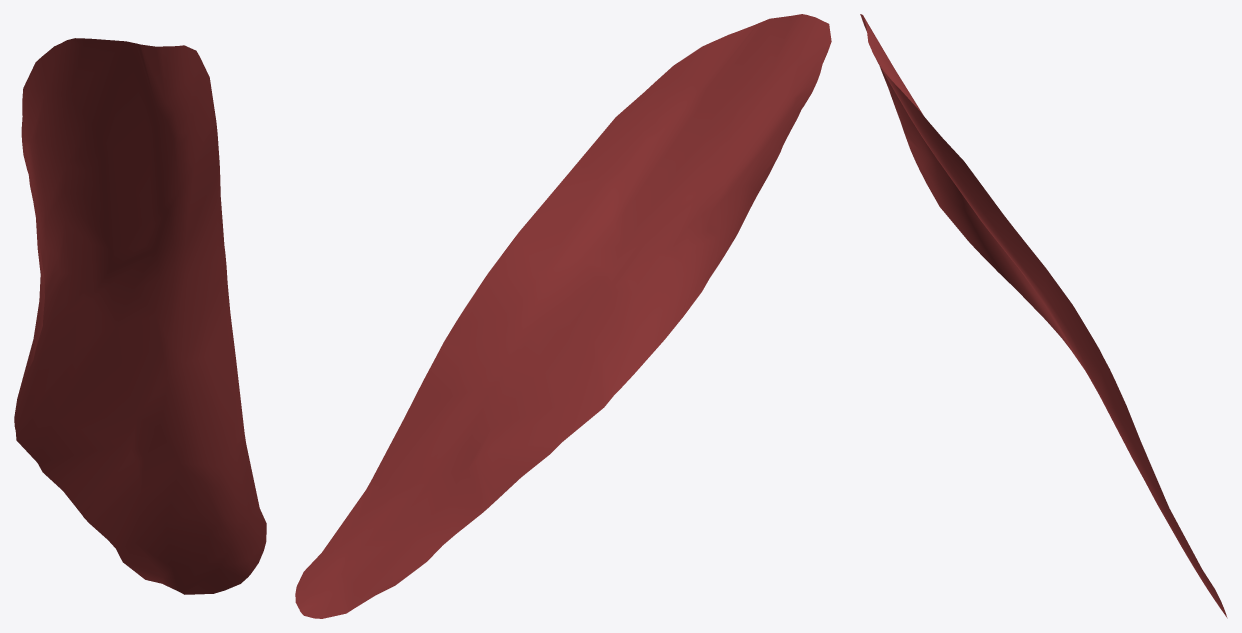
The model's file is teres-minor-muscle-or.glb.
The picture shows the model from 3 angles, left to right: view 1: azimuth 30°, elevation 25°; view 2: azimuth 150°, elevation 25°; view 3: azimuth 270°, elevation 25°; orthographic projection. The views are drawn at different scales.
Visible parts, largest first — view 1: Teres minor muscle.or; view 2: Teres minor muscle.or; view 3: Teres minor muscle.or.
Part boxes in pixels (bbox=[...]): Teres minor muscle.or: bbox=[14, 38, 266, 594]; Teres minor muscle.or: bbox=[295, 14, 831, 618]; Teres minor muscle.or: bbox=[860, 14, 1227, 618].
Size of the model in its own units: 0.0365 by 0.0548 by 0.0387.
